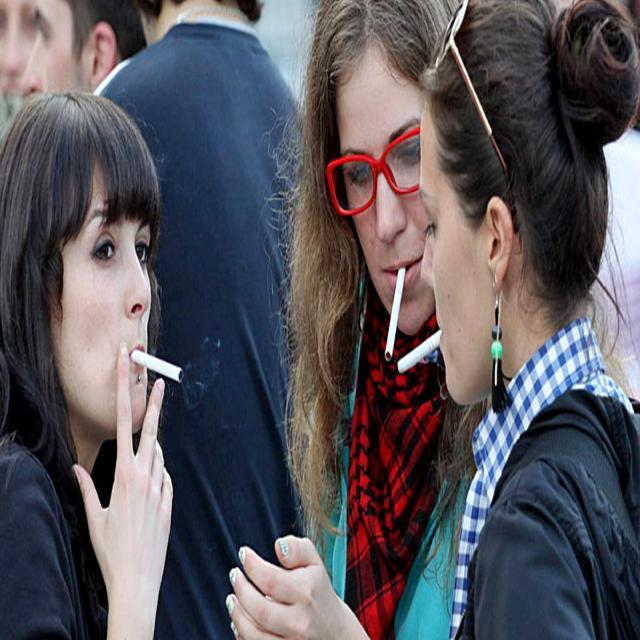cigarette: (394, 325, 444, 380), (126, 344, 188, 384), (383, 265, 405, 363)
